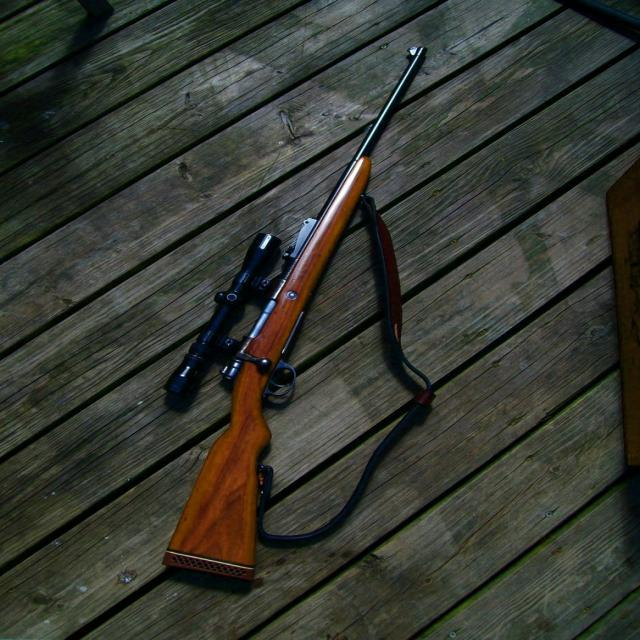weapon: (161, 47, 437, 580)
